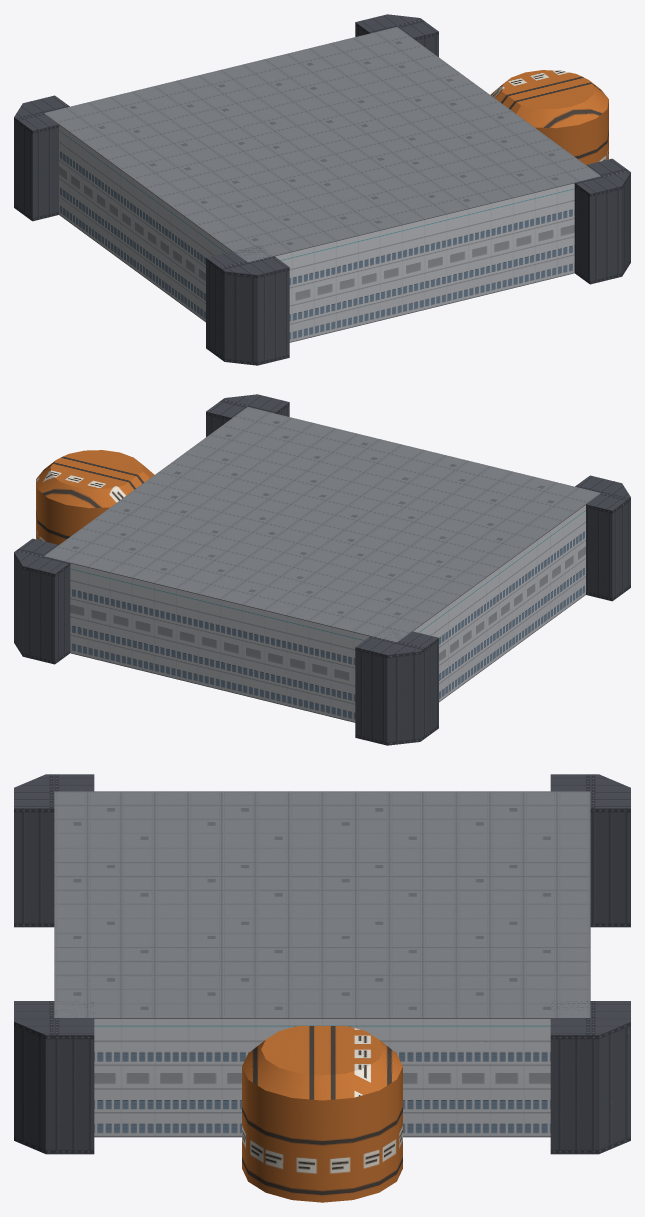
File: BLD_FLR_N_Silo_End.fbx
3 views of the same model, one above another, from view 1: azimuth 30°, elevation 25°; view 2: azimuth 150°, elevation 25°; view 3: azimuth 270°, elevation 25° (orthographic). The views are drawn at different scales.
Parts seen in each view (by area): view 1: BLD_FLR_N_Silo_End; view 2: BLD_FLR_N_Silo_End; view 3: BLD_FLR_N_Silo_End.
Part boxes in pixels (x1,y1,x2,y2): BLD_FLR_N_Silo_End: (14,14,630,365); BLD_FLR_N_Silo_End: (14,394,630,745); BLD_FLR_N_Silo_End: (14,774,630,1202).
Bounding box in the file's own units: 136 × 24.5 × 115.
